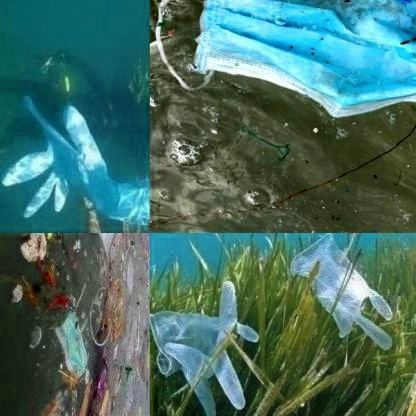Mask: (149, 0, 415, 116), (55, 306, 89, 382)
glove: (2, 94, 149, 223), (150, 280, 258, 414), (291, 236, 395, 352)
